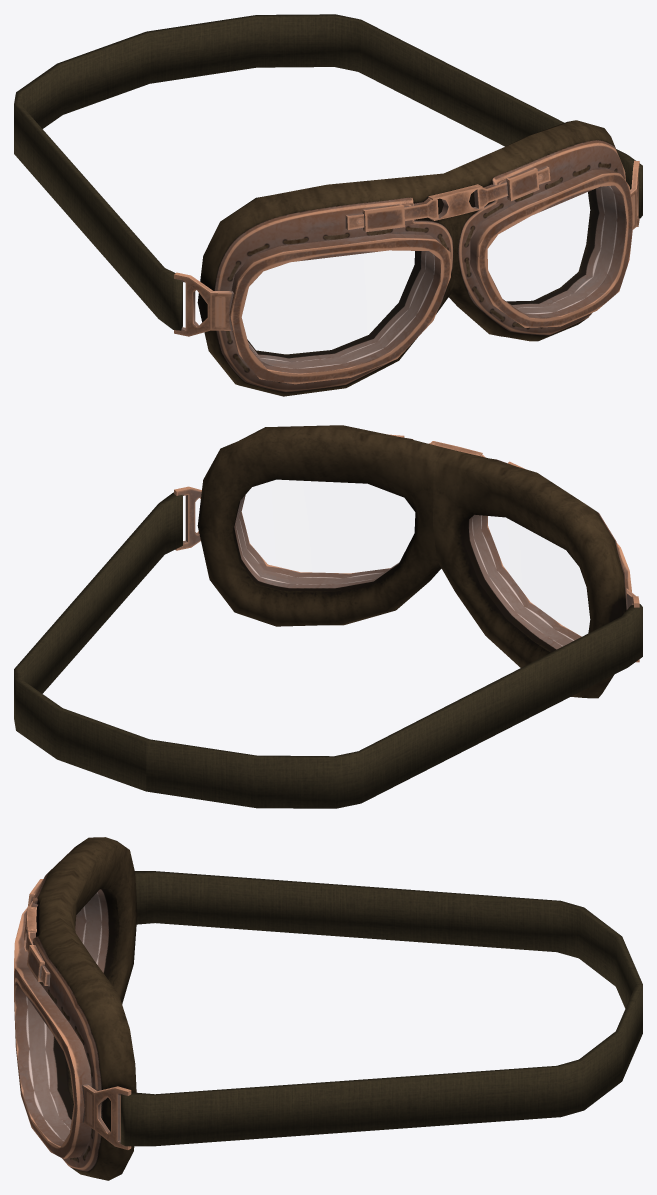
The model's file is aviation_goggles_revised.glb.
3 renders of one model, top to bottom at view 1: azimuth 30°, elevation 25°; view 2: azimuth 150°, elevation 25°; view 3: azimuth 270°, elevation 25°, orthographic.
Parts seen in each view (by area): view 1: Goggles_final; view 2: Goggles_final; view 3: Goggles_final.
Part boxes in pixels (x1,y1,x2,y2): Goggles_final: (14, 14, 642, 396); Goggles_final: (14, 425, 642, 808); Goggles_final: (14, 837, 642, 1180).
Size of the model in its own units: 0.1768 by 0.0735 by 0.2077.
Materials: 1 (1 with a texture image).
